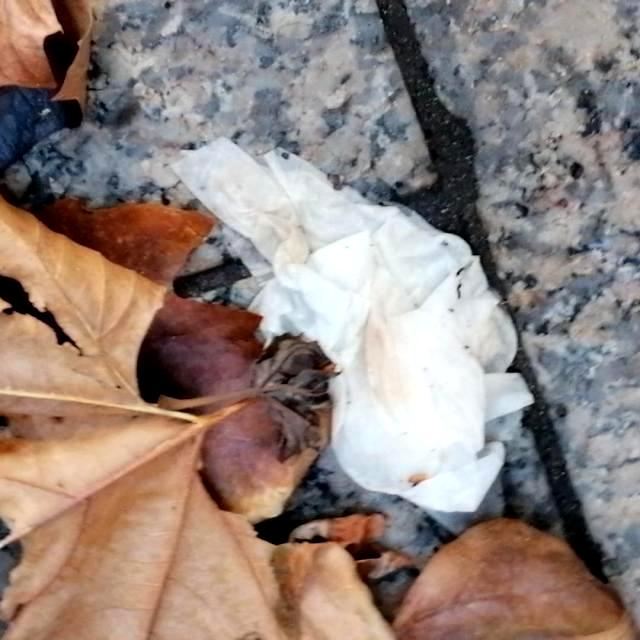Paper: (168, 133, 536, 512)
